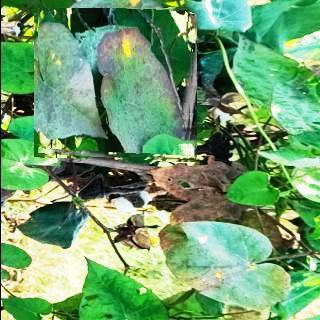leaf spot: (37, 8, 193, 163)
